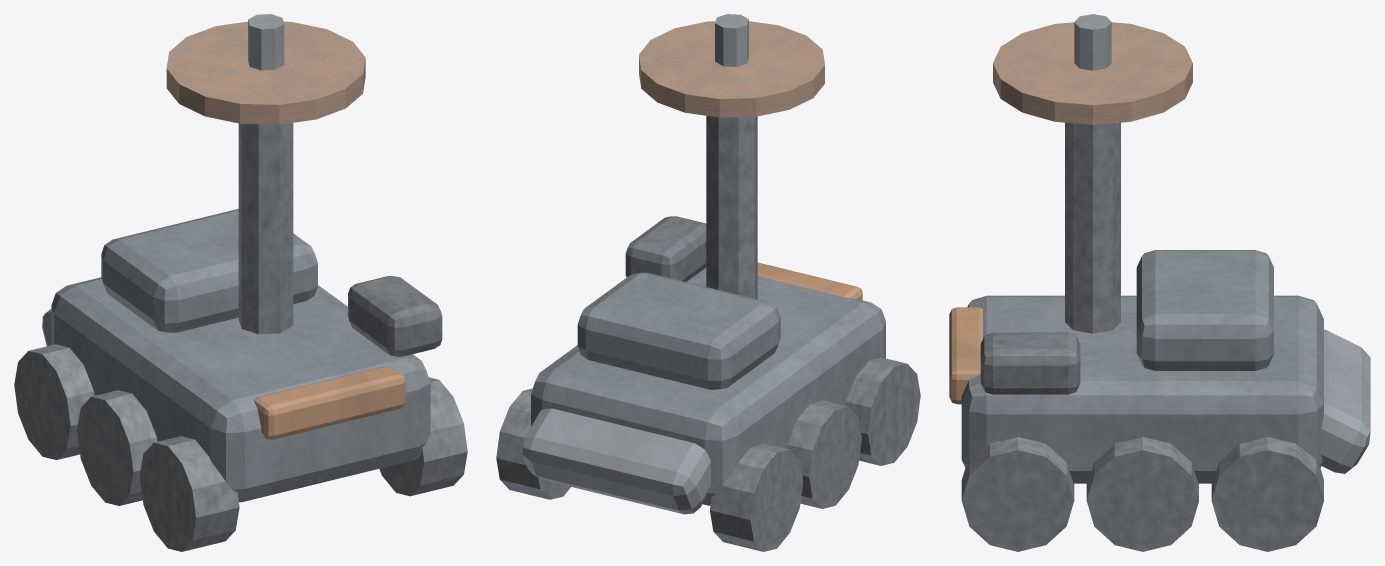
Rendered from dir_sentinel_scout.glb.
The picture shows the model from 3 angles, left to right: view 1: azimuth 30°, elevation 25°; view 2: azimuth 150°, elevation 25°; view 3: azimuth 270°, elevation 25°; orthographic projection. The views are drawn at different scales.
Visible parts, largest first — view 1: dir_sentinel_scout, dish; view 2: dir_sentinel_scout, dish; view 3: dir_sentinel_scout, dish.
Part boxes in pixels (x1,y1,x2,y2): dir_sentinel_scout: (14, 14, 467, 551); dish: (166, 21, 365, 124); dir_sentinel_scout: (496, 14, 920, 551); dish: (639, 21, 824, 117); dir_sentinel_scout: (949, 14, 1370, 551); dish: (993, 22, 1192, 124).
Bounding box in the file's own units: 0.5 × 0.82 × 0.6747.
2 materials, 2 textured.
